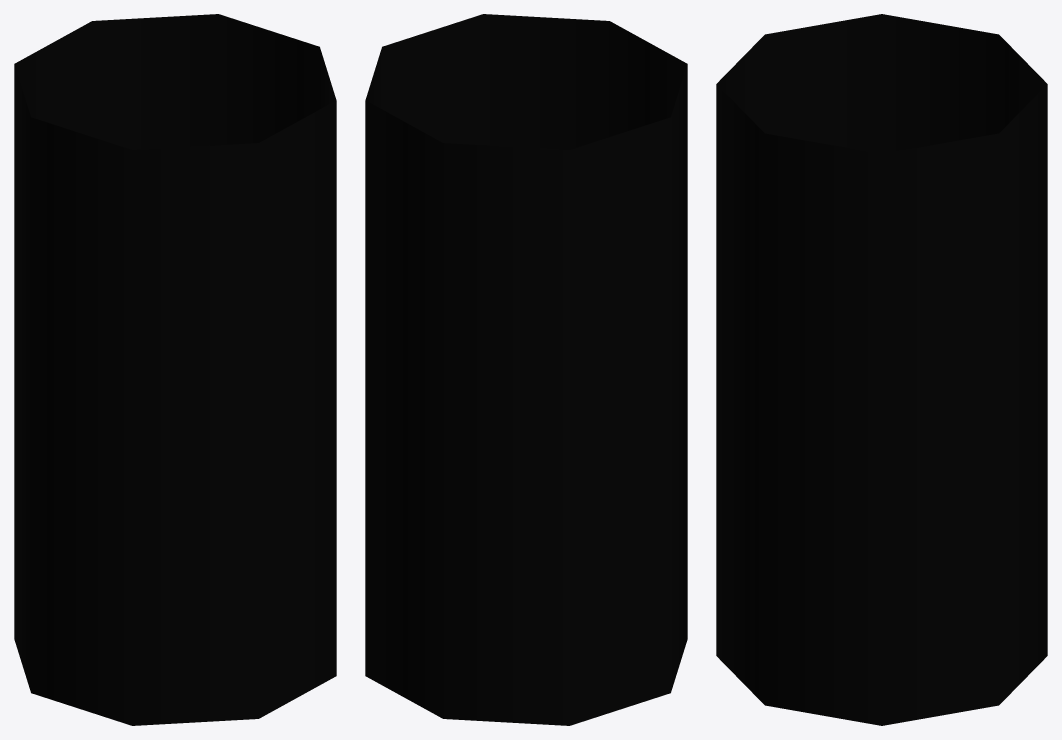
The model's file is mdl_apa_wire_simple.glb.
3 renders of one model, left to right at view 1: azimuth 30°, elevation 25°; view 2: azimuth 150°, elevation 25°; view 3: azimuth 270°, elevation 25°, orthographic.
Visible parts, largest first — view 1: Cylinder; view 2: Cylinder; view 3: Cylinder.
Boxes of the visible parts, x1=… form: Cylinder: x1=14, y1=14, x2=336, y2=725; Cylinder: x1=365, y1=14, x2=687, y2=725; Cylinder: x1=716, y1=14, x2=1047, y2=725.
Bounding box in the file's own units: 0.3277 × 0.6246 × 0.3277.
1 material, 1 textured.
